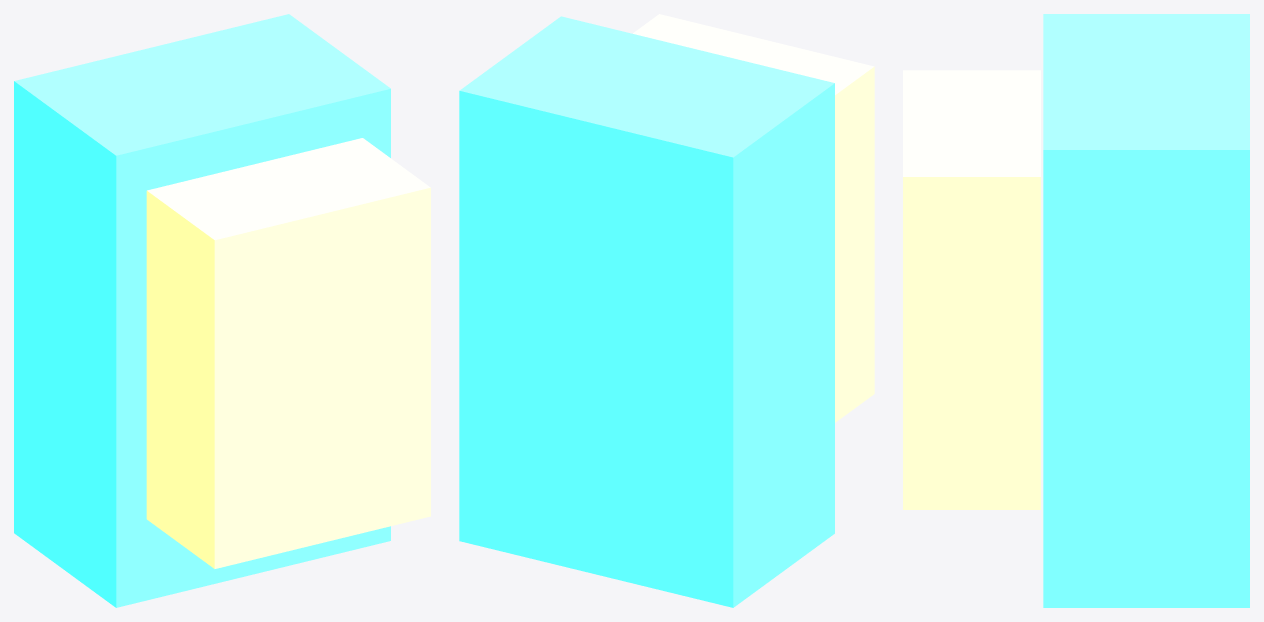
File: player-jetpack.glb
3 renders of one model, left to right at view 1: azimuth 30°, elevation 25°; view 2: azimuth 150°, elevation 25°; view 3: azimuth 270°, elevation 25°, orthographic.
Parts seen in each view (by area): view 1: jetpack, body; view 2: body, jetpack; view 3: body, jetpack.
Part boxes in pixels (x1,y1,x2,y2): jetpack: [146, 138, 430, 568]; body: [14, 14, 390, 607]; body: [459, 16, 834, 607]; jetpack: [633, 14, 874, 422]; body: [1043, 14, 1249, 607]; jetpack: [903, 70, 1040, 509].
Bounding box in the file's own units: 0.7 × 1.1 × 0.755.
